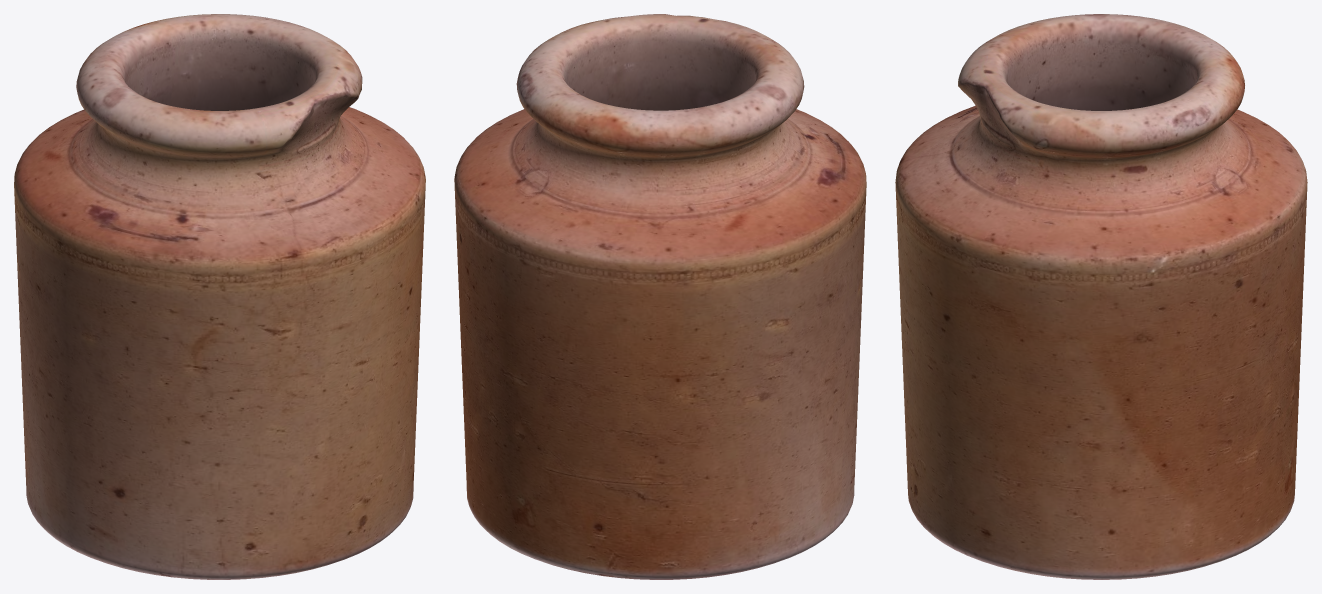
Rendered from Pot3 (Ceramic).fbx.
3 views of the same model, side by side, from view 1: azimuth 30°, elevation 25°; view 2: azimuth 150°, elevation 25°; view 3: azimuth 270°, elevation 25° (orthographic).
Parts seen in each view (by area): view 1: Jug; view 2: Jug; view 3: Jug.
Boxes of the visible parts, x1=… form: Jug: x1=14, y1=14, x2=425, y2=579; Jug: x1=454, y1=14, x2=866, y2=579; Jug: x1=895, y1=14, x2=1307, y2=579.
Size of the model in its own units: 12.86 by 15.05 by 12.86.
Materials: 1 (1 with a texture image).
